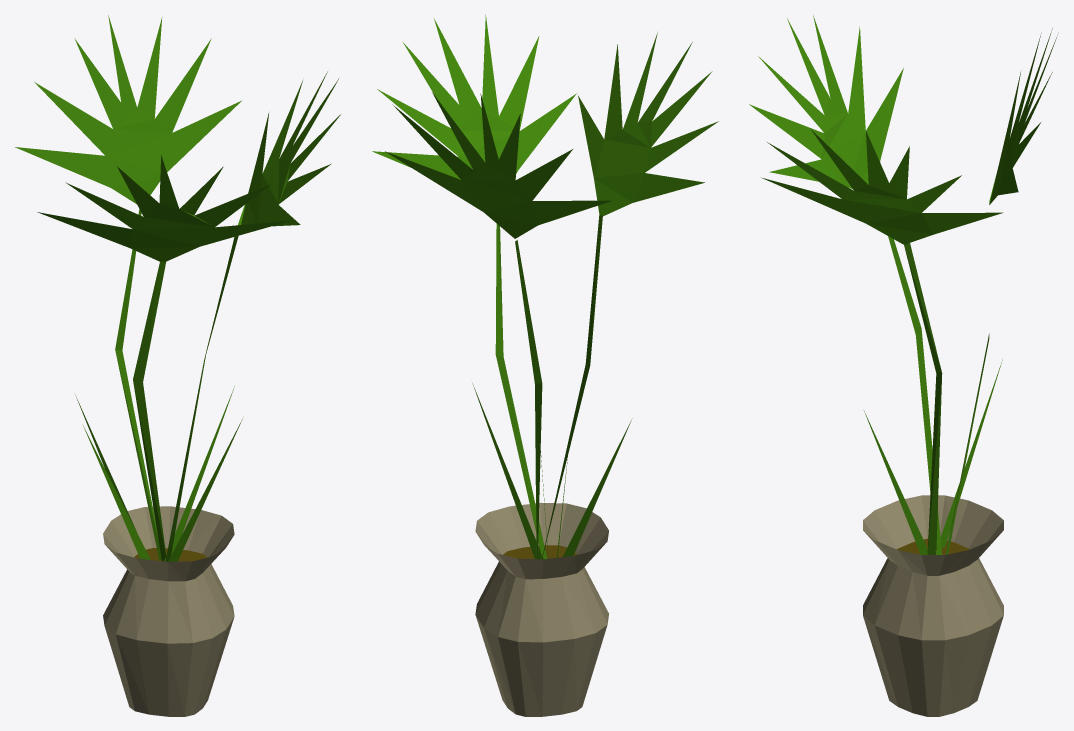
Rendered from obj_potted_plant_1_0.obj.
3 renders of one model, left to right at view 1: azimuth 30°, elevation 25°; view 2: azimuth 150°, elevation 25°; view 3: azimuth 270°, elevation 25°, orthographic. The views are drawn at different scales.
Size of the model in its own units: 0.9453 by 1.96 by 0.8281.
